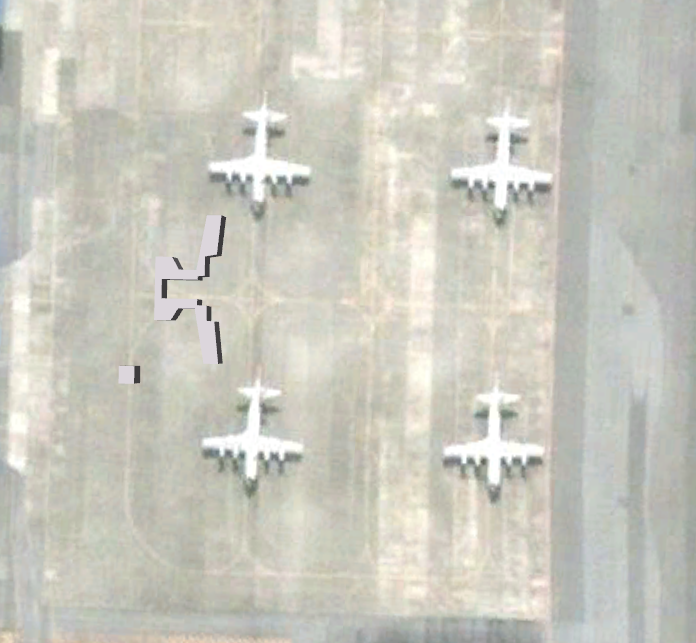A9: (188, 362, 316, 498), (441, 88, 560, 230), (434, 365, 552, 506), (201, 81, 316, 216)
